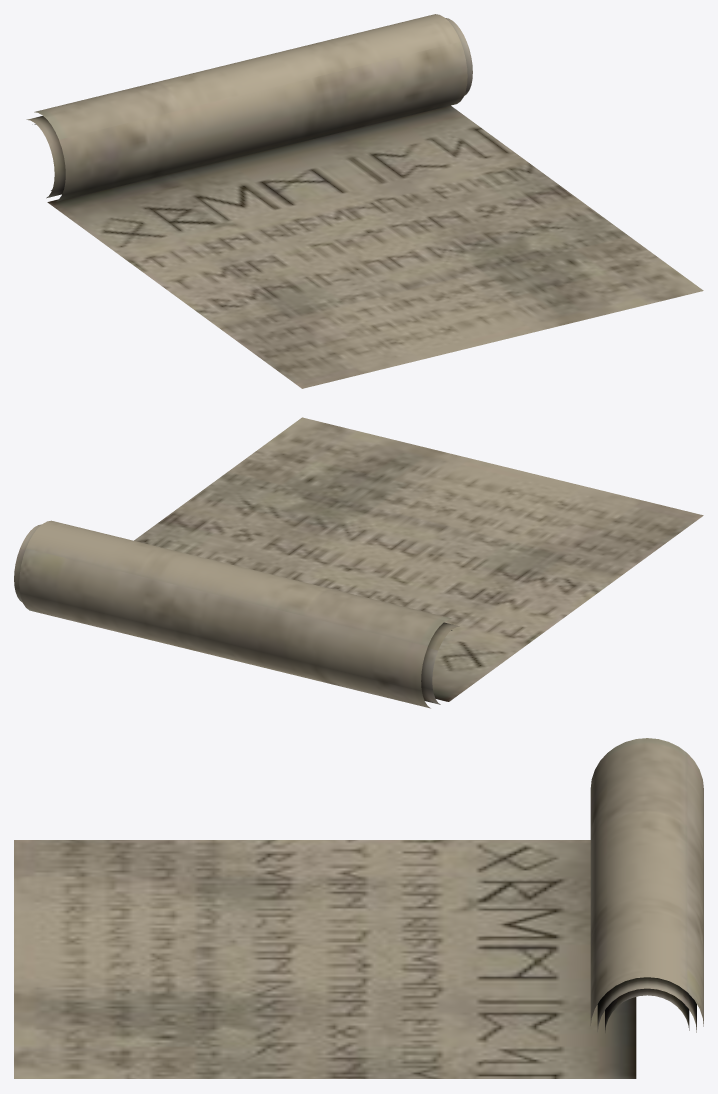
Rendered from SM_paper_02.glb.
3 renders of one model, top to bottom at view 1: azimuth 30°, elevation 25°; view 2: azimuth 150°, elevation 25°; view 3: azimuth 270°, elevation 25°, orthographic. The views are drawn at different scales.
Parts seen in each view (by area): view 1: SM_paper_02; view 2: SM_paper_02; view 3: SM_paper_02.
Part boxes in pixels (<box>): SM_paper_02: <box>26,14,703,388</box>; SM_paper_02: <box>14,417,703,708</box>; SM_paper_02: <box>14,738,703,1078</box>.
Size of the model in its own units: 0.3138 by 0.0604 by 0.3674.
Materials: 1 (1 with a texture image).
